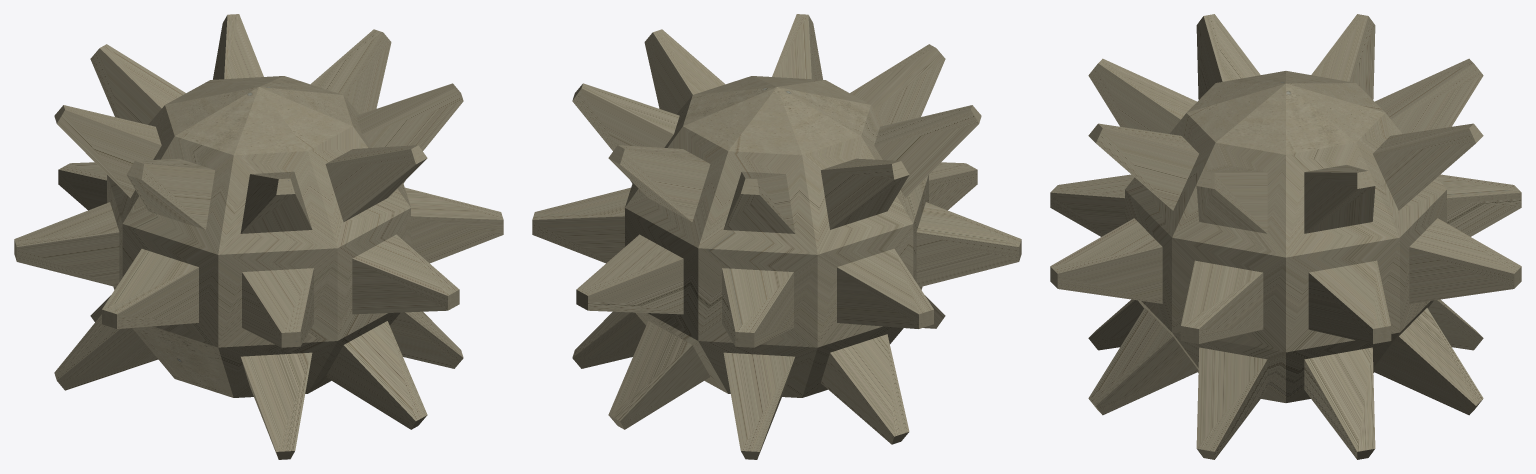
File: StoneVirus.fbx
3 views of the same model, side by side, from view 1: azimuth 30°, elevation 25°; view 2: azimuth 150°, elevation 25°; view 3: azimuth 270°, elevation 25° (orthographic). The views are drawn at different scales.
Visible parts, largest first — view 1: Sphere; view 2: Sphere; view 3: Sphere.
Boxes of the visible parts, x1,y1,x2,y2 form: Sphere: (14,14,503,459); Sphere: (532,14,1021,459); Sphere: (1050,14,1521,459).
Size of the model in its own units: 278 by 200 by 278.
